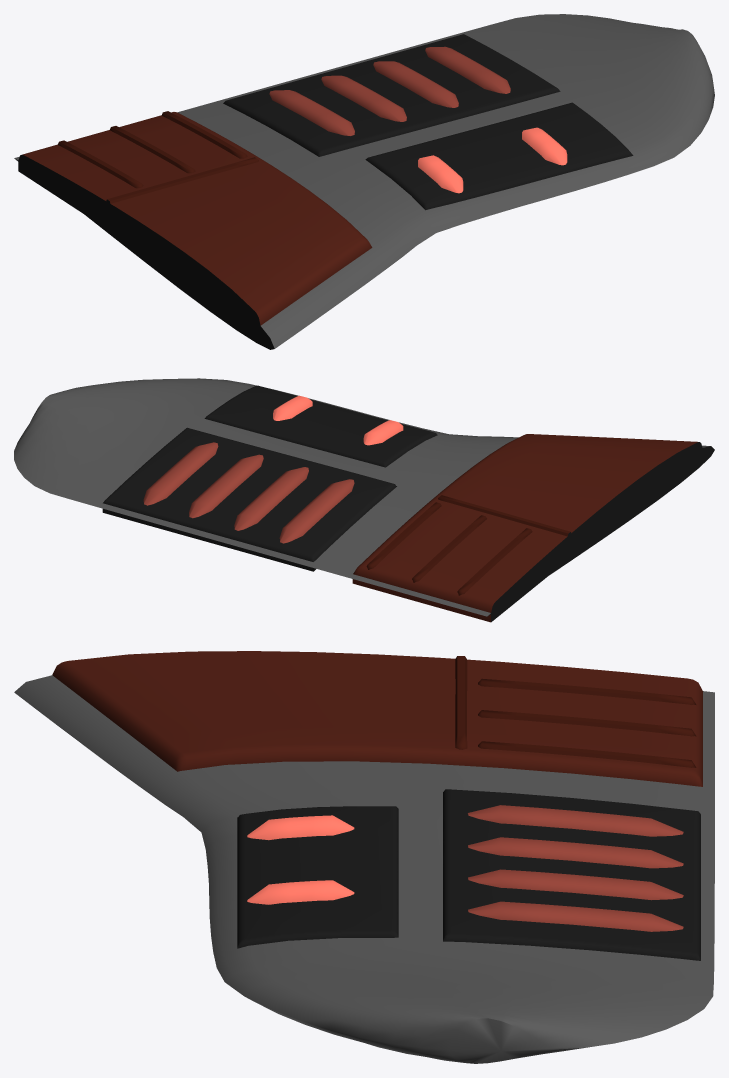
File: redwing_243.glb
The picture shows the model from 3 angles, top to bottom: view 1: azimuth 30°, elevation 25°; view 2: azimuth 150°, elevation 25°; view 3: azimuth 270°, elevation 25°; orthographic projection. The views are drawn at different scales.
Parts seen in each view (by area): view 1: wing_r.001, panel_r.001, grille_r.001, lamp_box_r.001, grille_slat0_r.001, grille_slat1_r.001, grille_slat2_r.001, grille_slat3_r.001, lamp1_r.001, panel_groove_r.001, lamp0_r.001, panel_slot2_r.001 (+2 smaller); view 2: wing_r.001, panel_r.001, grille_r.001, lamp_box_r.001, grille_slat3_r.001, grille_slat2_r.001, grille_slat1_r.001, grille_slat0_r.001, panel_groove_r.001, panel_slot1_r.001, panel_slot2_r.001, panel_slot0_r.001 (+2 smaller); view 3: wing_r.001, panel_r.001, grille_r.001, lamp_box_r.001, grille_slat2_r.001, grille_slat3_r.001, grille_slat1_r.001, grille_slat0_r.001, lamp0_r.001, lamp1_r.001, panel_slot1_r.001, panel_slot2_r.001 (+2 smaller).
Boxes of the visible parts, x1,y1,x2,y2 form: wing_r.001: [14, 14, 714, 349]; panel_r.001: [18, 112, 372, 335]; grille_r.001: [223, 34, 560, 156]; lamp_box_r.001: [365, 102, 633, 210]; grille_slat0_r.001: [425, 46, 510, 93]; grille_slat1_r.001: [373, 61, 458, 107]; grille_slat2_r.001: [321, 75, 406, 121]; grille_slat3_r.001: [269, 90, 354, 135]; lamp1_r.001: [418, 155, 463, 193]; panel_groove_r.001: [105, 157, 258, 209]; lamp0_r.001: [522, 127, 567, 165]; panel_slot2_r.001: [57, 140, 143, 188]; wing_r.001: [14, 378, 714, 616]; panel_r.001: [352, 434, 702, 622]; grille_r.001: [102, 427, 396, 571]; lamp_box_r.001: [204, 385, 437, 467]; grille_slat3_r.001: [279, 479, 354, 543]; grille_slat2_r.001: [234, 467, 308, 530]; grille_slat1_r.001: [189, 454, 263, 518]; grille_slat0_r.001: [143, 442, 218, 505]; panel_groove_r.001: [438, 495, 571, 541]; panel_slot1_r.001: [412, 515, 486, 582]; panel_slot2_r.001: [457, 528, 532, 595]; panel_slot0_r.001: [366, 502, 441, 569]; wing_r.001: [14, 675, 714, 1063]; panel_r.001: [52, 651, 702, 786]; grille_r.001: [443, 789, 700, 960]; lamp_box_r.001: [237, 806, 398, 948]; grille_slat2_r.001: [468, 837, 683, 868]; grille_slat3_r.001: [468, 805, 683, 836]; grille_slat1_r.001: [468, 869, 683, 900]; grille_slat0_r.001: [468, 901, 683, 931]; lamp0_r.001: [247, 880, 354, 904]; lamp1_r.001: [247, 815, 354, 840]; panel_slot1_r.001: [478, 710, 696, 736]; panel_slot2_r.001: [478, 678, 696, 704].
Bounding box in the file's own units: 22.78 × 2.03 × 17.39.
